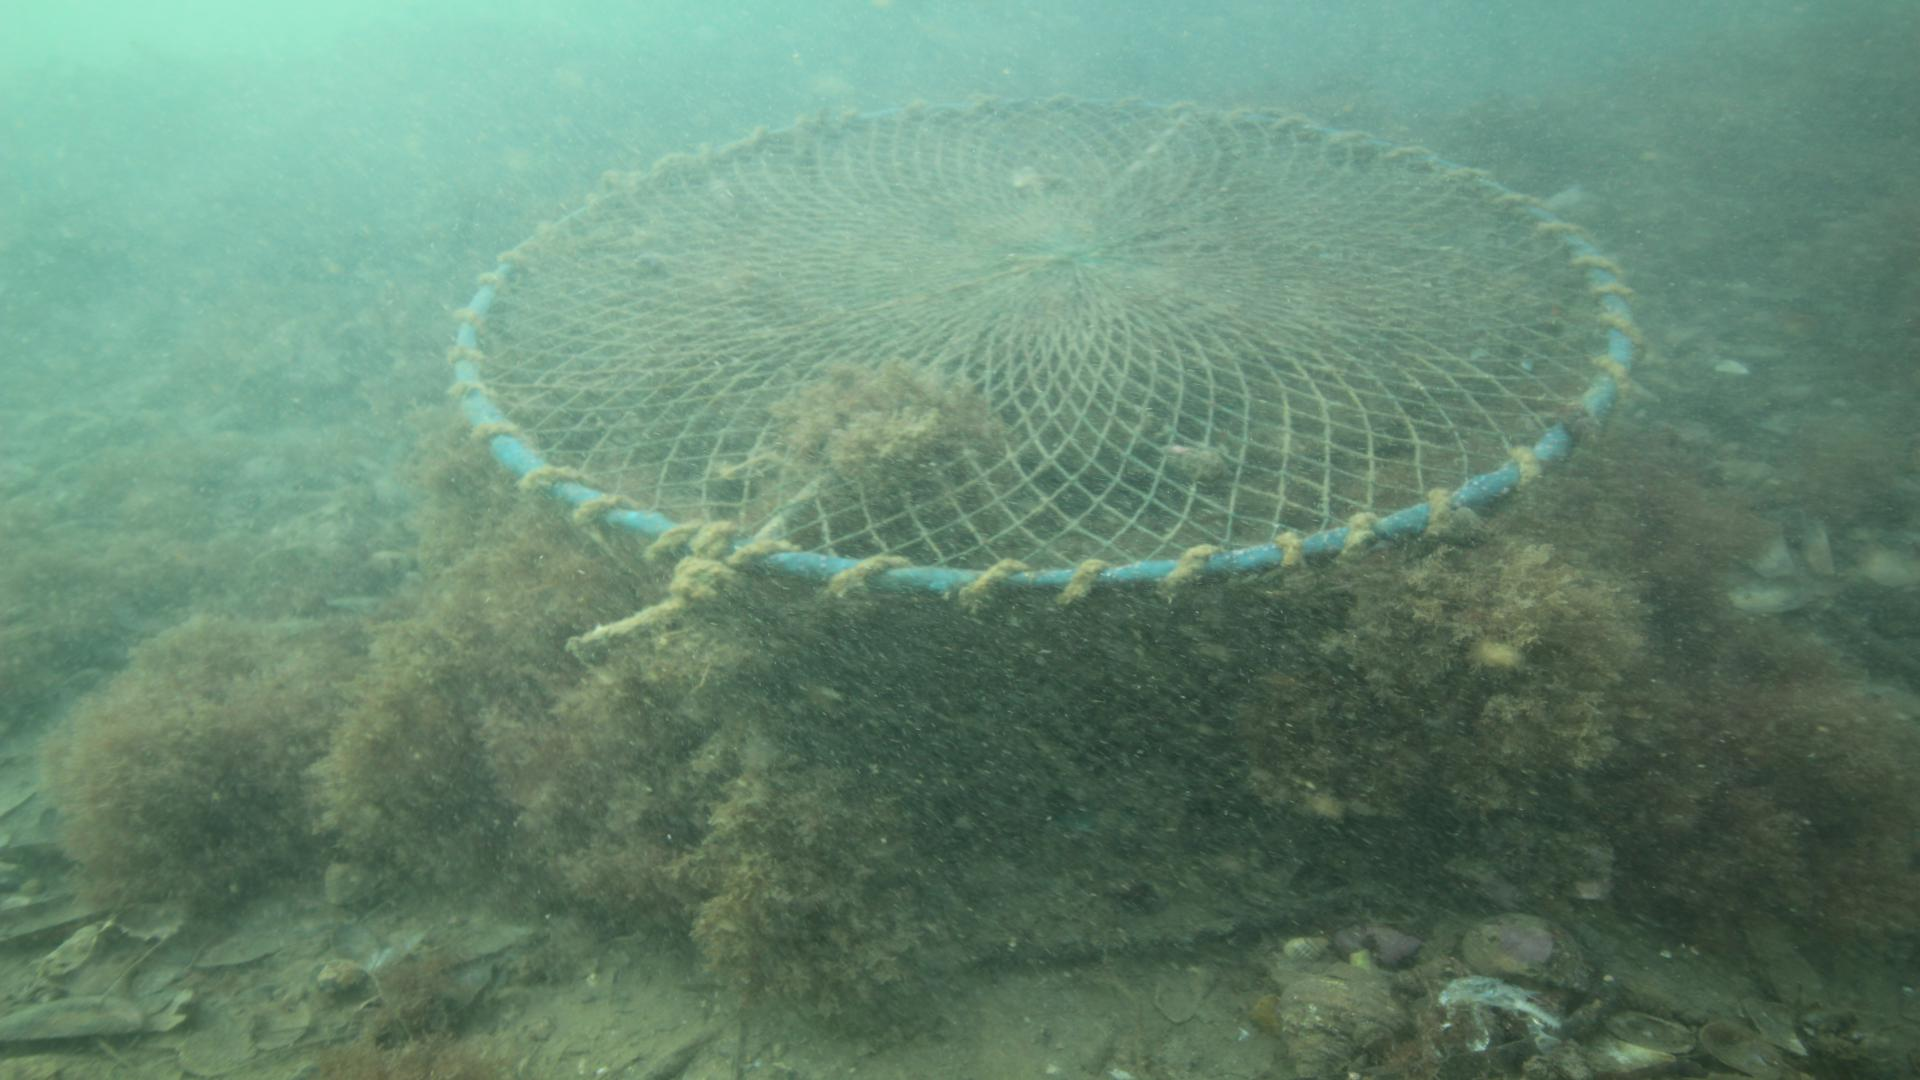circular fish trap: (444, 90, 1644, 778)
